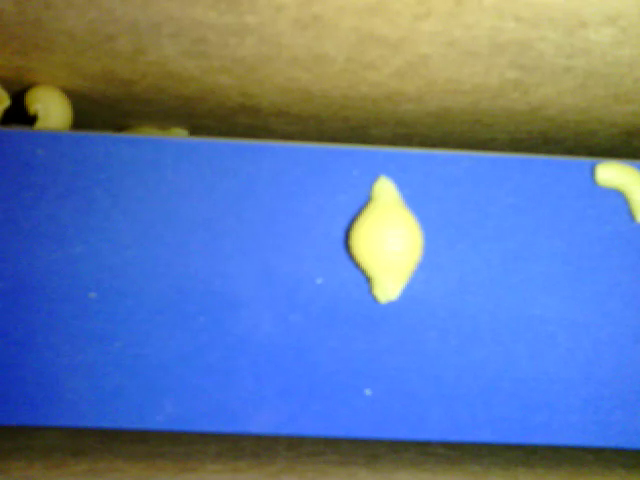elbow: (589, 157, 637, 226)
shell: (346, 174, 425, 306), (22, 81, 73, 135)
